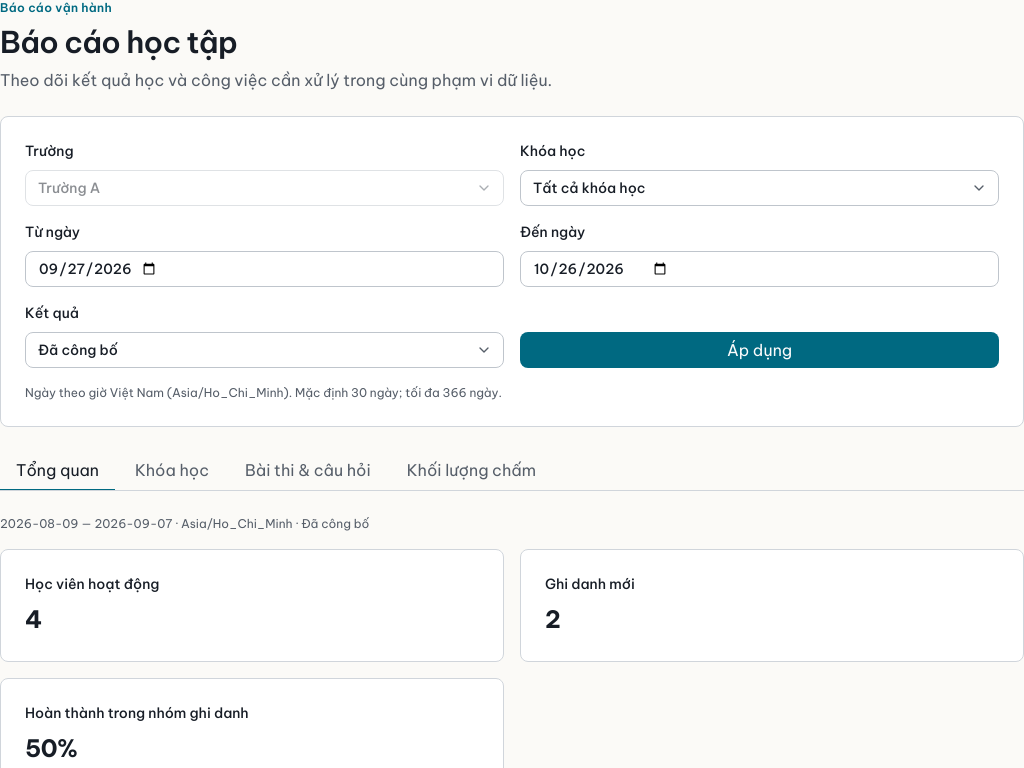
Test: loads scoped reports and distinguishes missing grades from zero scores
Check: the text "50%" is shown, box [25,733,77,763]
Check: the text "Báo cáo vận hành" is shown, box [0,0,112,15]
Click the tab "Khối lượng chấm" at (471, 471), box [391,451,552,491]
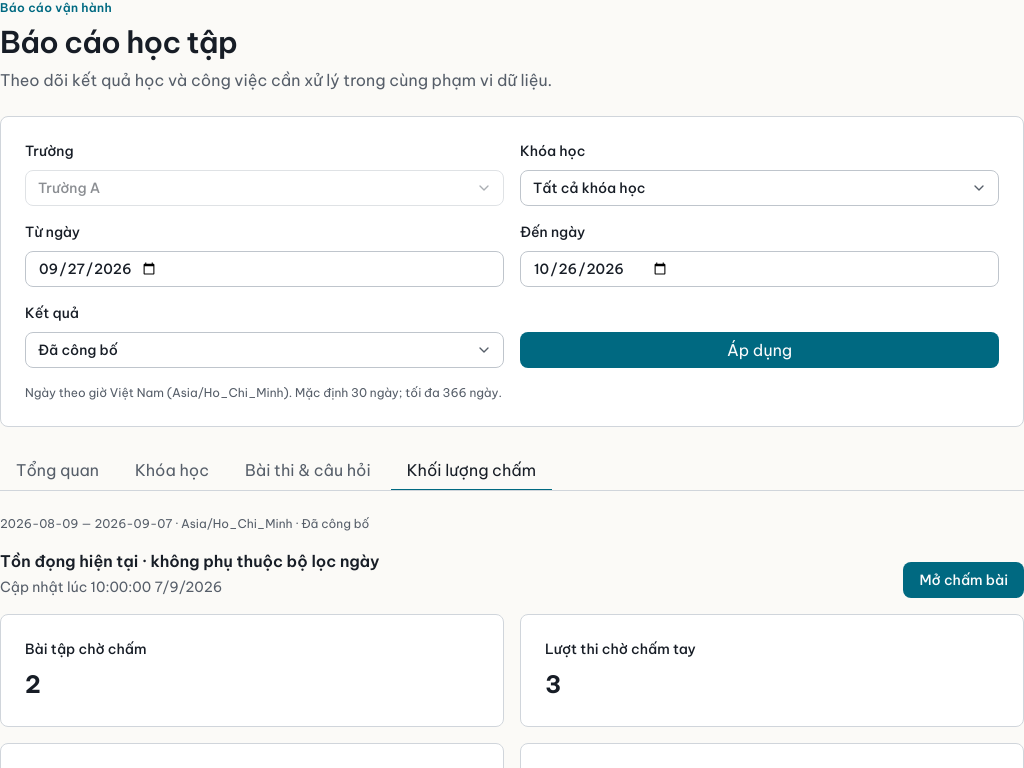
Check: the heading "Tồn đọng hiện tại · không phụ thuộc bộ lọc ngày" is shown, box [0,549,380,573]
